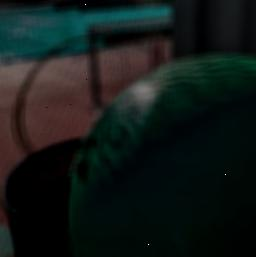algae: (65, 49, 256, 257)
